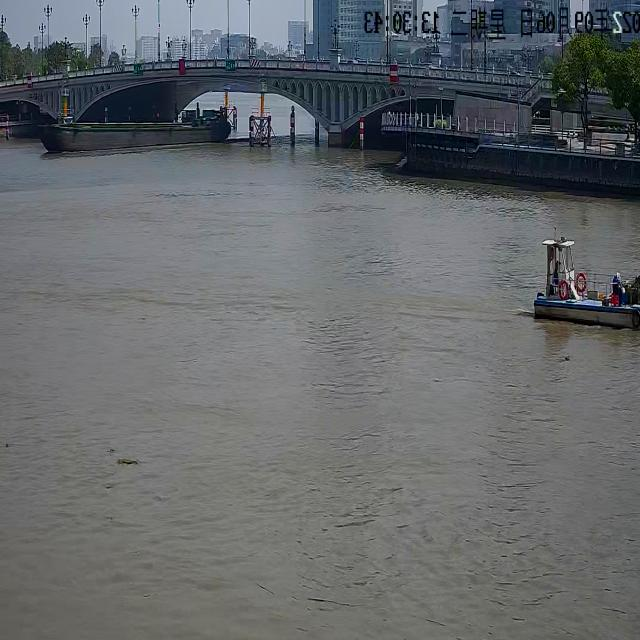ship: (534, 225, 640, 328), (39, 108, 232, 150)
